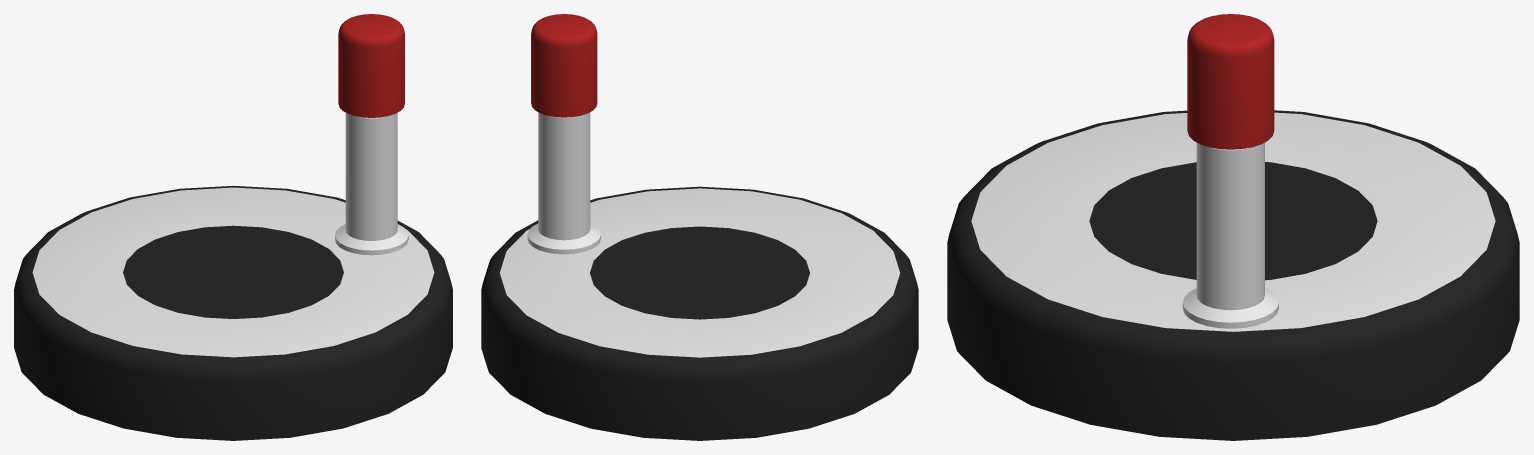
Rendered from crank.glb.
3 renders of one model, left to right at view 1: azimuth 30°, elevation 25°; view 2: azimuth 150°, elevation 25°; view 3: azimuth 270°, elevation 25°, orthographic. The views are drawn at different scales.
Visible parts, largest first — view 1: crank_base, crank_handle; view 2: crank_base, crank_handle; view 3: crank_base, crank_handle.
Part boxes in pixels (x1=…): crank_base: x1=14, y1=185, x2=452, y2=440; crank_handle: x1=335, y1=14, x2=408, y2=255; crank_base: x1=481, y1=186, x2=918, y2=440; crank_handle: x1=527, y1=14, x2=600, y2=254; crank_base: x1=947, y1=110, x2=1519, y2=440; crank_handle: x1=1182, y1=14, x2=1278, y2=328.
Size of the model in its own units: 0.3113 by 0.227 by 0.3113.
